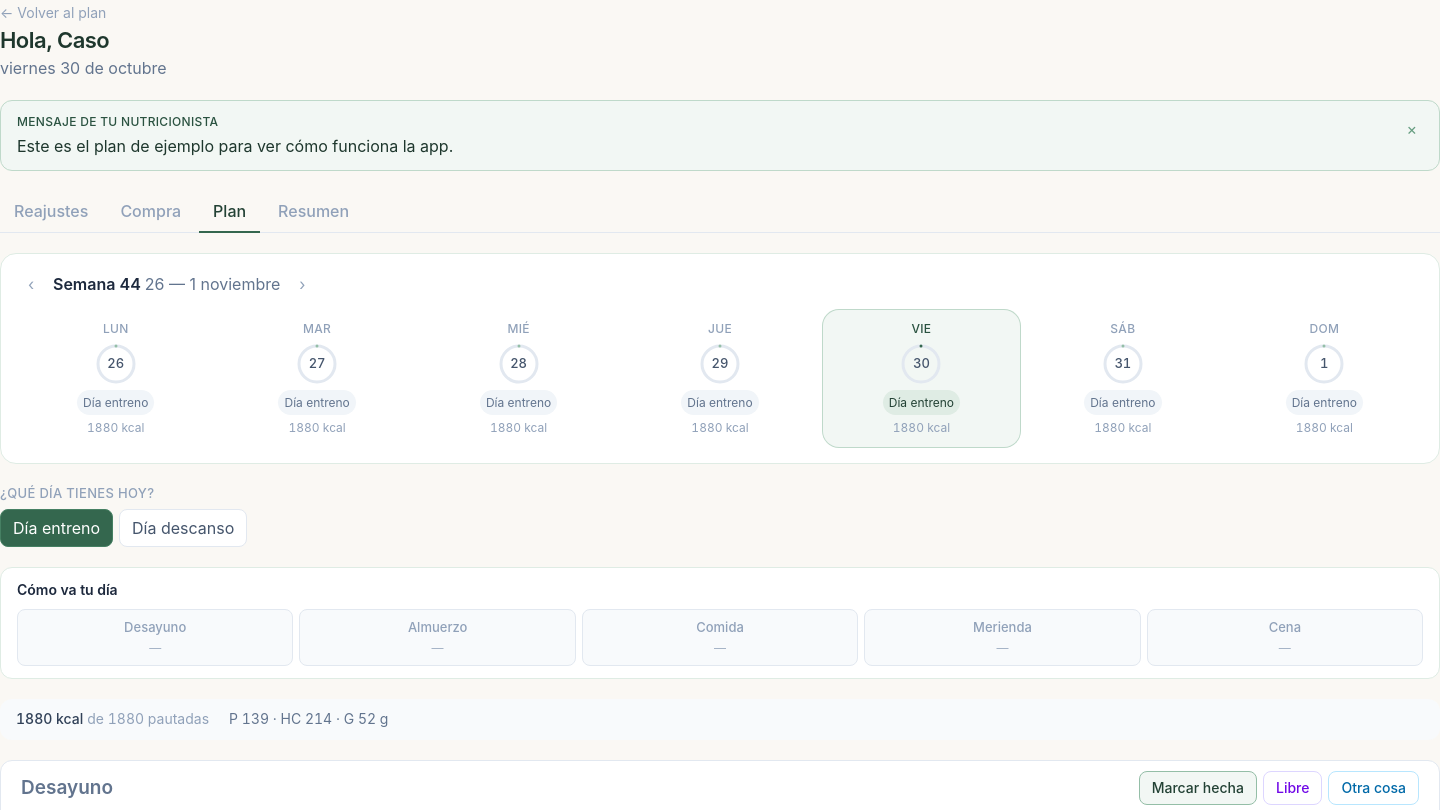
Las cinco pestañas › y en compra se abre la lista, sin pasar por el menú
The width and height of the screenshot is (1440, 810).
Click the button "Compra". click: [151, 212]
box: [106,191,195,233]
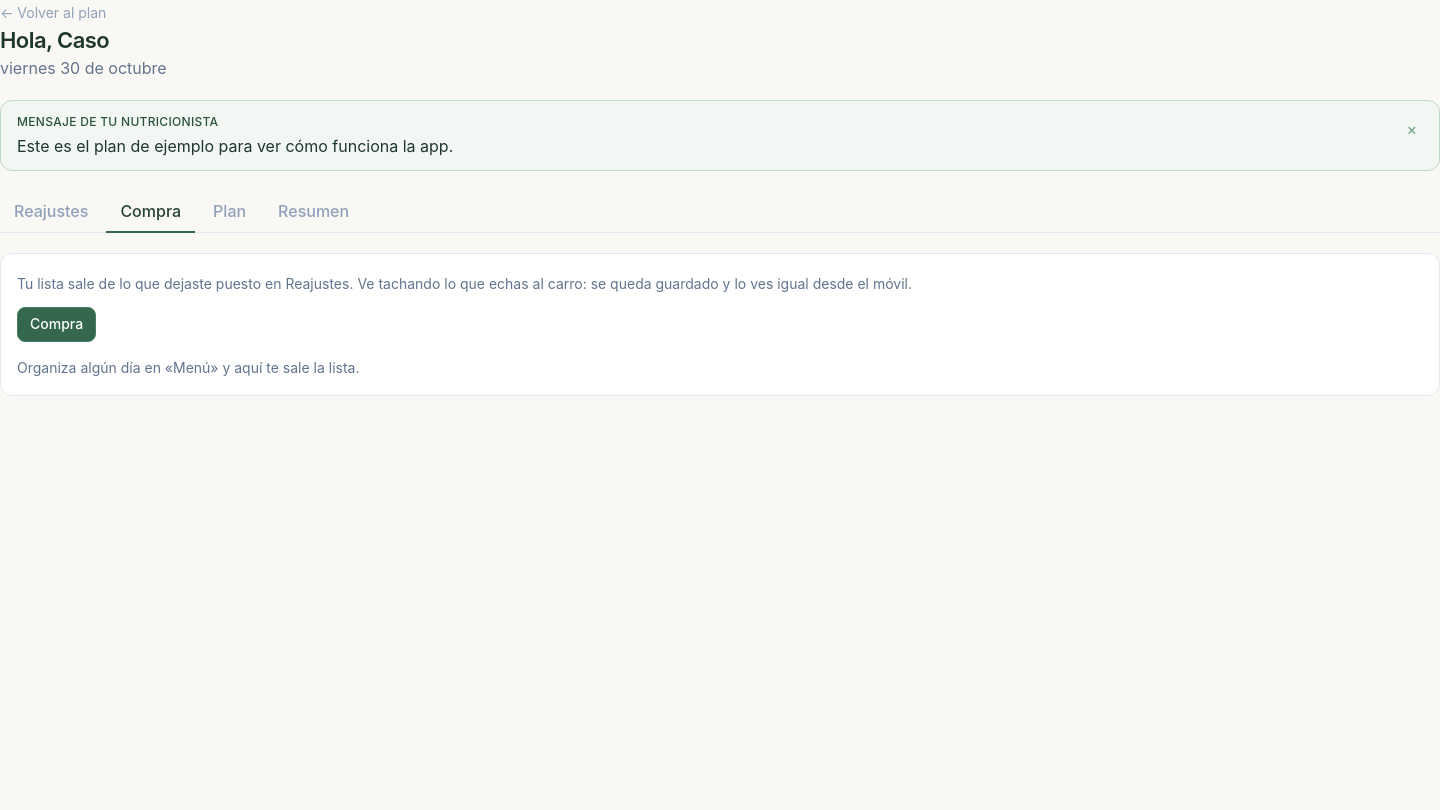
Now the text "Tu lista sale de lo que dejaste puesto" is shown, box [17,275,912,292]
